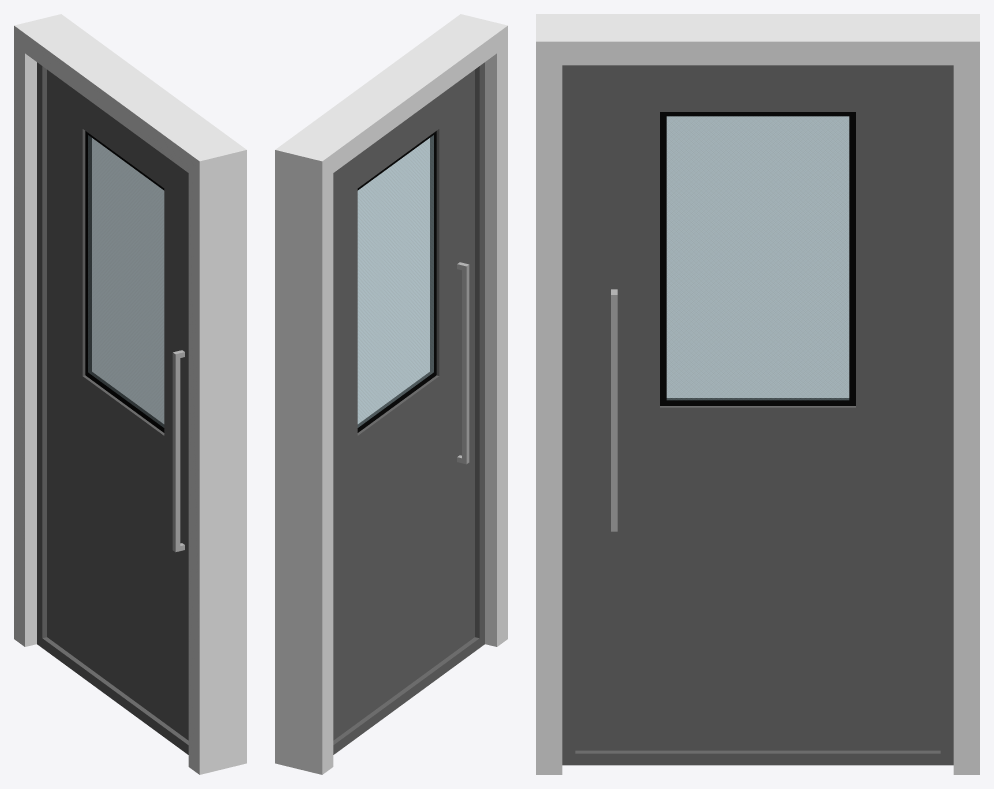
File: door.FBX
3 views of the same model, side by side, from view 1: azimuth 30°, elevation 25°; view 2: azimuth 150°, elevation 25°; view 3: azimuth 270°, elevation 25° (orthographic). The views are drawn at different scales.
Parts seen in each view (by area): view 1: Mesh27, Mesh1; view 2: Mesh27, Mesh1; view 3: Mesh27, Mesh1.
Part boxes in pixels (x1,y1,x2,y2): Mesh27: (37,62,188,754); Mesh1: (14,14,246,774); Mesh27: (333,62,484,754); Mesh1: (275,14,507,774); Mesh27: (562,65,953,765); Mesh1: (536,14,979,774).
Bounding box in the file's own units: 0.1968 × 2.44 × 1.34.
Materials: 5 (1 with a texture image).
